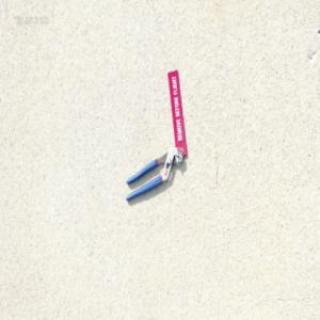LuggageTagtrack_idkeyframe: (166, 68, 186, 155)
Pliertrack_idkeyframe: (124, 143, 182, 201)
